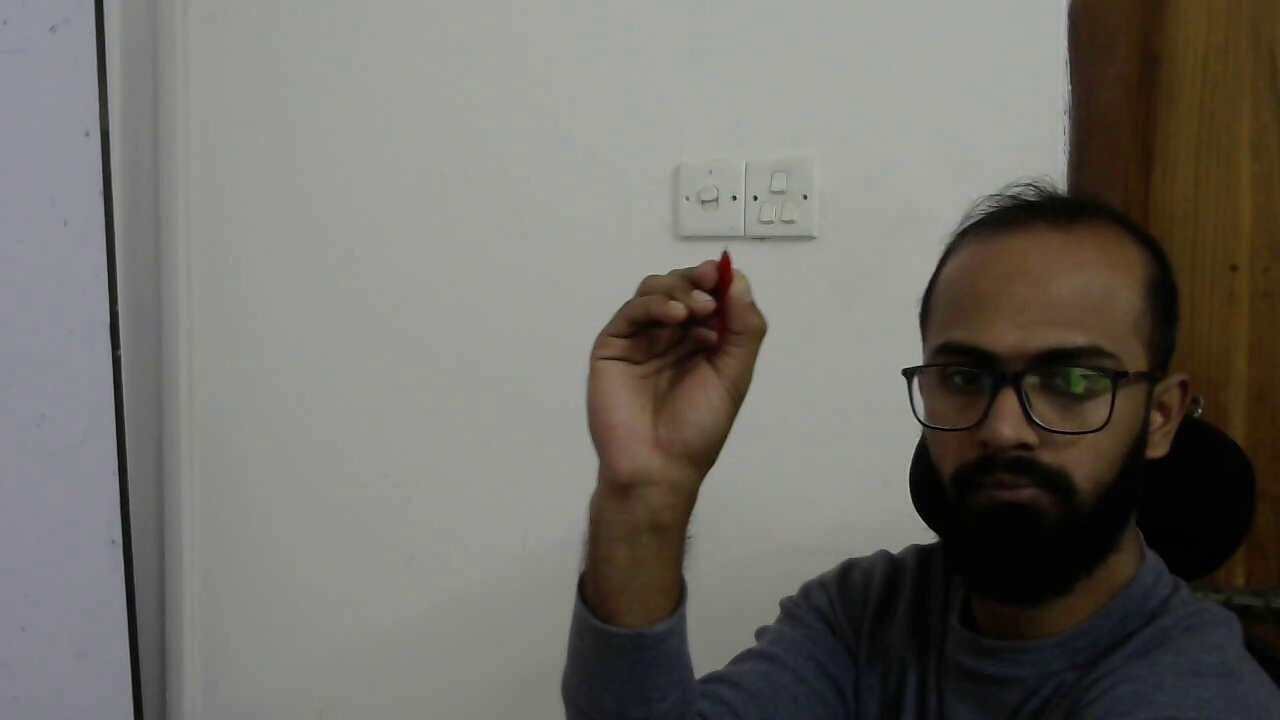pointer: (618, 255, 773, 375)
